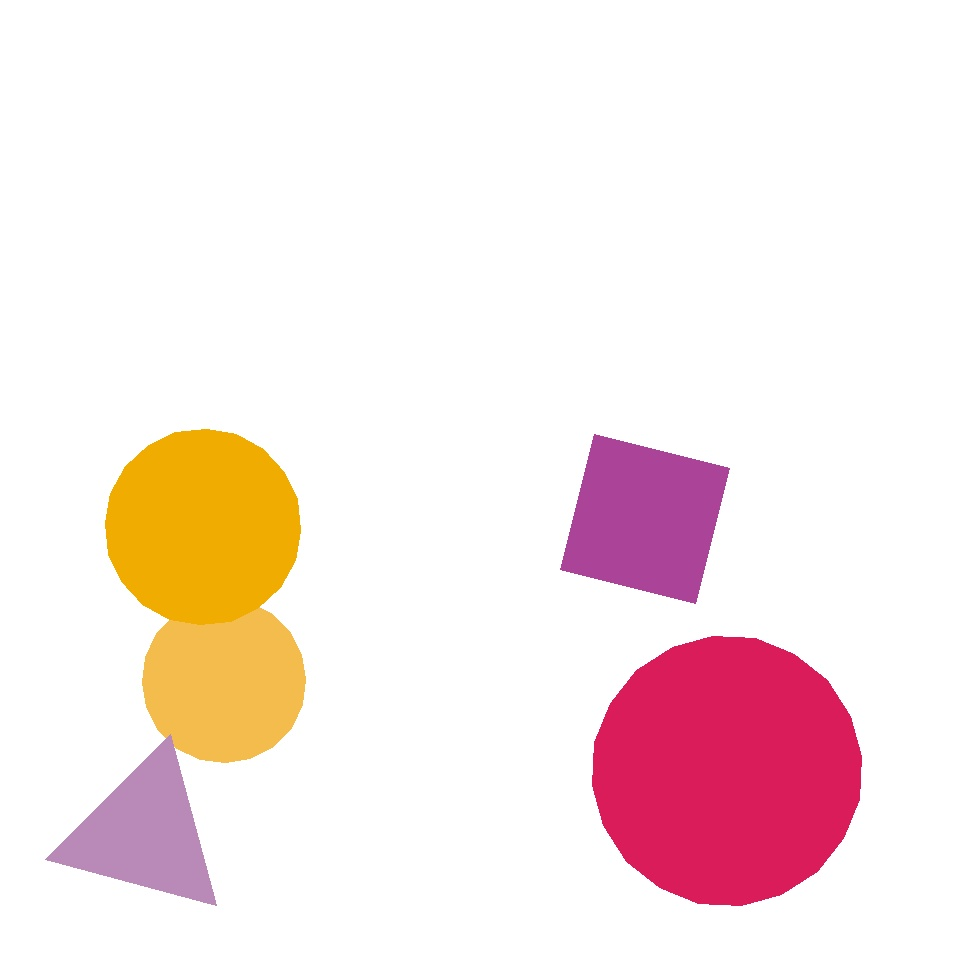circle: (58, 747, 230, 918)
square: (560, 434, 730, 604)
triangle: (356, 494, 728, 864), (592, 636, 862, 906), (480, 260, 724, 503), (106, 430, 300, 624), (142, 600, 306, 762), (234, 12, 344, 123)
